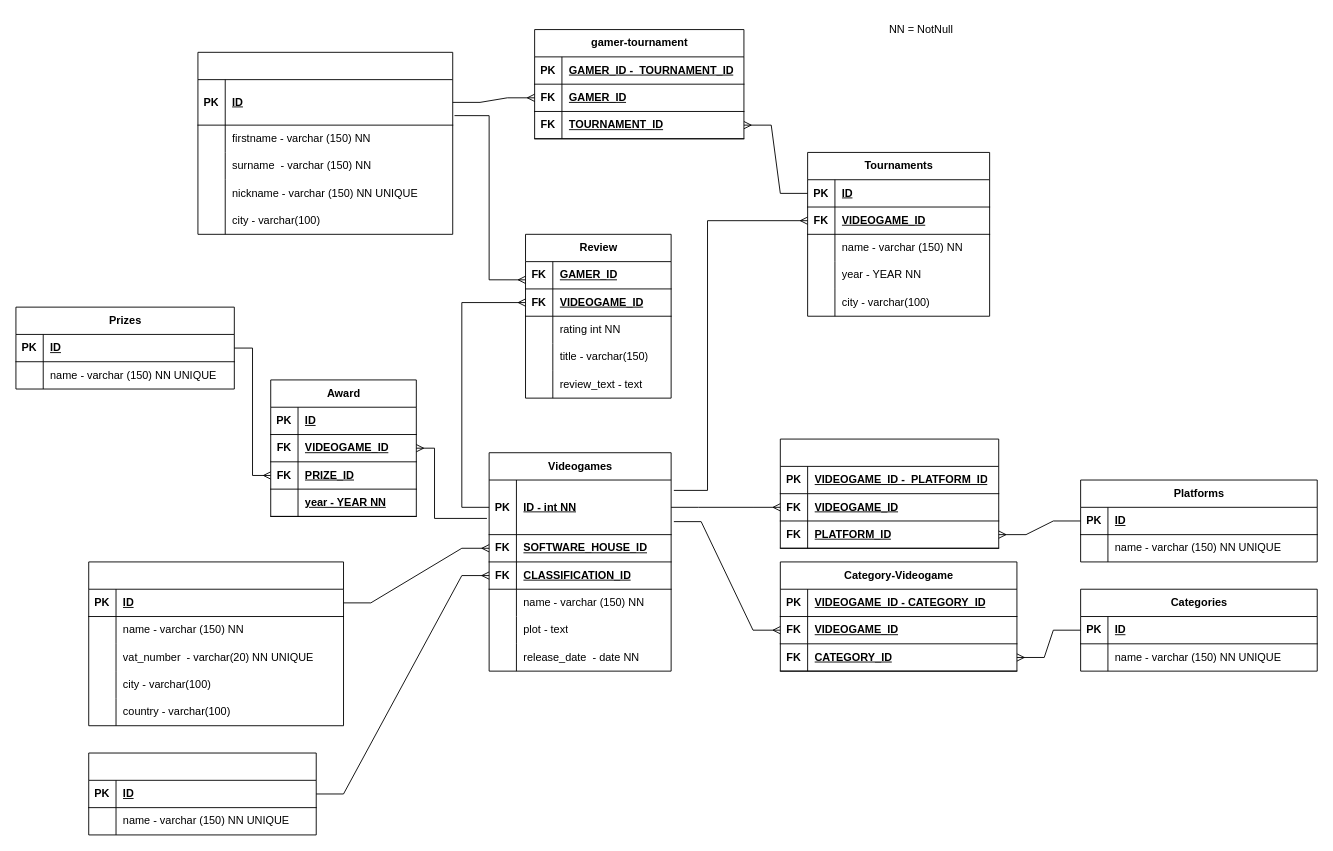
This 1333x851 diagram has some shape labels left out. The box of each missing label's shape, as (x1, y1, x2, y2) in pixels:
Classifications: (88, 752, 316, 835)
Gamers: (197, 51, 453, 234)
Platform-Videogame: (779, 438, 999, 548)
Software_houses: (88, 561, 344, 726)
